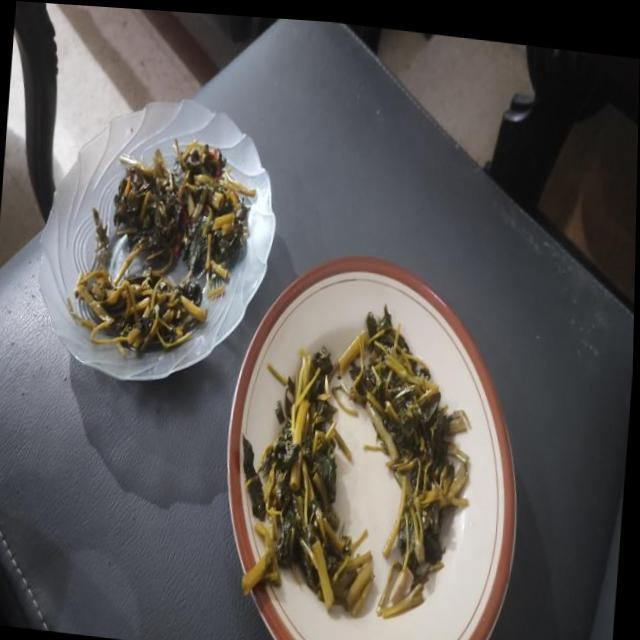tumis_kangkung: (347, 306, 469, 606), (242, 348, 373, 614), (114, 139, 256, 279), (74, 268, 207, 356)
